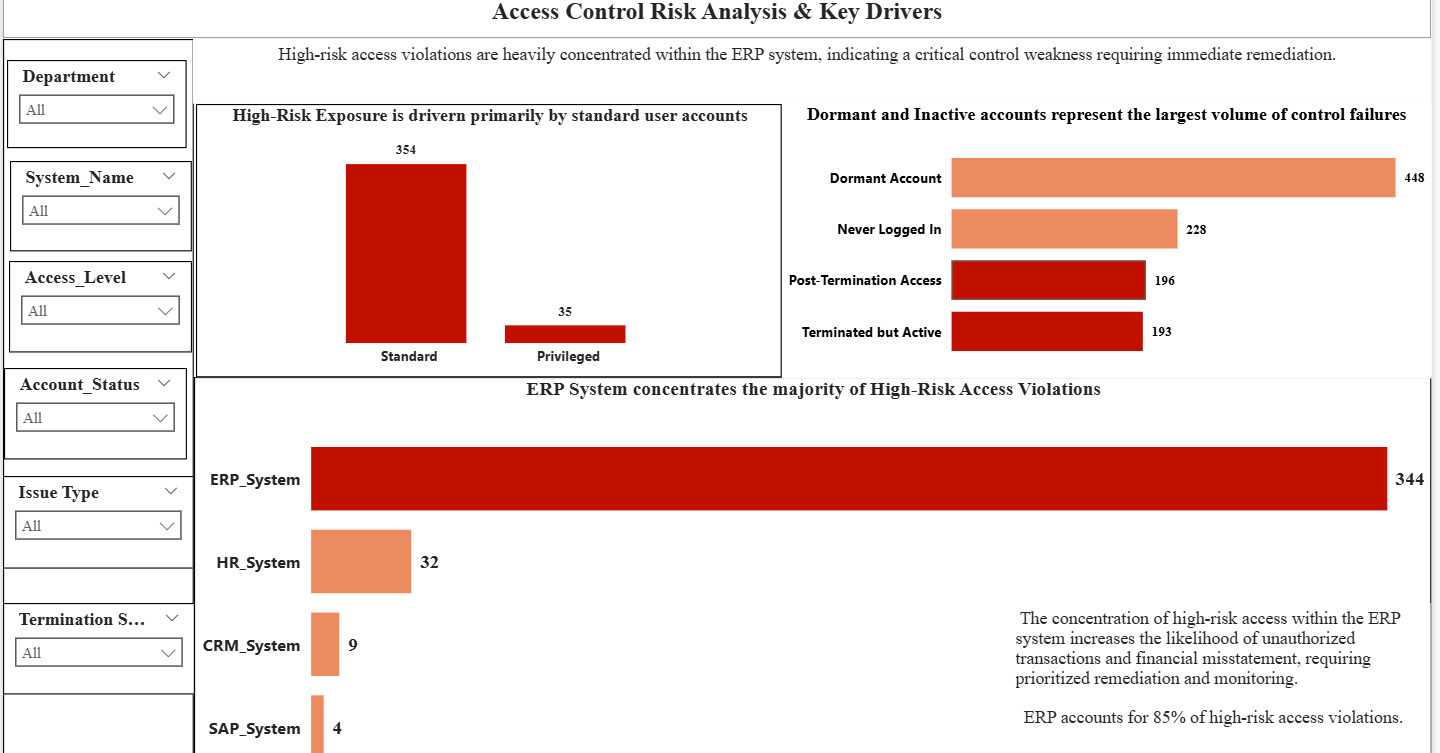

What the dashboard file says about the page in this screenshot:
{"tool":"powerbi","page":{"name":"Access Control Analysis","canvas":[1280,726],"ordinal":3},"visuals":[{"type":"textbox","box":[0,0,1280,41.3],"z":0},{"type":"textbox","box":[0,41.8,170.7,684.1],"z":1000},{"type":"slicer","fields":{"Values":["HR_List.Department"]},"box":[4,60.9,160.6,78.8],"z":2000},{"type":"slicer","fields":{"Values":["HR_List.System_Name"]},"box":[6,151.6,162.6,80.8],"z":3000},{"type":"slicer","fields":{"Values":["HR_List.Access_Level"]},"box":[5,241.4,163.6,81.8],"z":4000},{"type":"slicer","fields":{"Values":["HR_List.Audit_Flag"]},"box":[0,434,170.6,82.8],"z":5000},{"type":"textbox","box":[170.5,42.1,1109.5,57.9],"z":6000},{"type":"slicer","fields":{"Values":["HR_List.Termination Status"]},"box":[0,547.5,171.7,81.7],"z":7000},{"type":"slicer","fields":{"Values":["HR_List.Account_Status"]},"box":[1,337.2,163.6,81.8],"z":8000},{"type":"clusteredBarChart","title":"ERP System concentrates the majority of High-Risk Access Violations","fields":{"Category":["HR_List.System_Name"],"Y":["HR_List.High Risk Users"]},"box":[171,345.1,1109,380.4],"z":9000},{"type":"clusteredColumnChart","title":"High-Risk Exposure is drivern primarily by standard user accounts","fields":{"Category":["HR_List.Access_Level"],"Y":["HR_List.High Risk Users"]},"box":[172.6,100,525.3,245.3],"z":10000},{"type":"barChart","title":"Dormant and Inactive accounts represent the largest volume of control failures","fields":{"Category":["HR_List.Audit_Flag"],"Y":["HR_List.Exception Users"]},"box":[697.9,100,582.1,246.3],"z":11000},{"type":"textbox","box":[902.7,547.2,377.3,166.9],"z":11001}]}

Visuals, with their boxes on the page's 1280x726 design canvas (x1, y1, x2, y2). These are canvas units, not pixel positions in the 1440x753 screenshot, which may show the page scaled, cropped or inside an application window:
textbox: {"left": 0, "top": 0, "right": 1280, "bottom": 41}
textbox: {"left": 0, "top": 42, "right": 171, "bottom": 726}
slicer - HR_List.Department: {"left": 4, "top": 61, "right": 165, "bottom": 140}
slicer - HR_List.System_Name: {"left": 6, "top": 152, "right": 169, "bottom": 232}
slicer - HR_List.Access_Level: {"left": 5, "top": 241, "right": 169, "bottom": 323}
slicer - HR_List.Audit_Flag: {"left": 0, "top": 434, "right": 171, "bottom": 517}
textbox: {"left": 170, "top": 42, "right": 1280, "bottom": 100}
slicer - HR_List.Termination Status: {"left": 0, "top": 548, "right": 172, "bottom": 629}
slicer - HR_List.Account_Status: {"left": 1, "top": 337, "right": 165, "bottom": 419}
"ERP System concentrates the majority of High-Risk Access Violations" clusteredBarChart: {"left": 171, "top": 345, "right": 1280, "bottom": 726}
"High-Risk Exposure is drivern primarily by standard user accounts" clusteredColumnChart: {"left": 173, "top": 100, "right": 698, "bottom": 345}
"Dormant and Inactive accounts represent the largest volume of control failures" barChart: {"left": 698, "top": 100, "right": 1280, "bottom": 346}
textbox: {"left": 903, "top": 547, "right": 1280, "bottom": 714}
